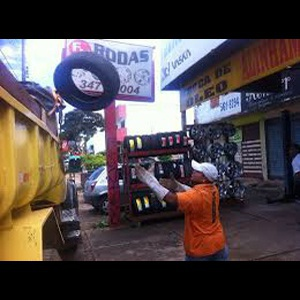tire: (53, 50, 119, 111)
